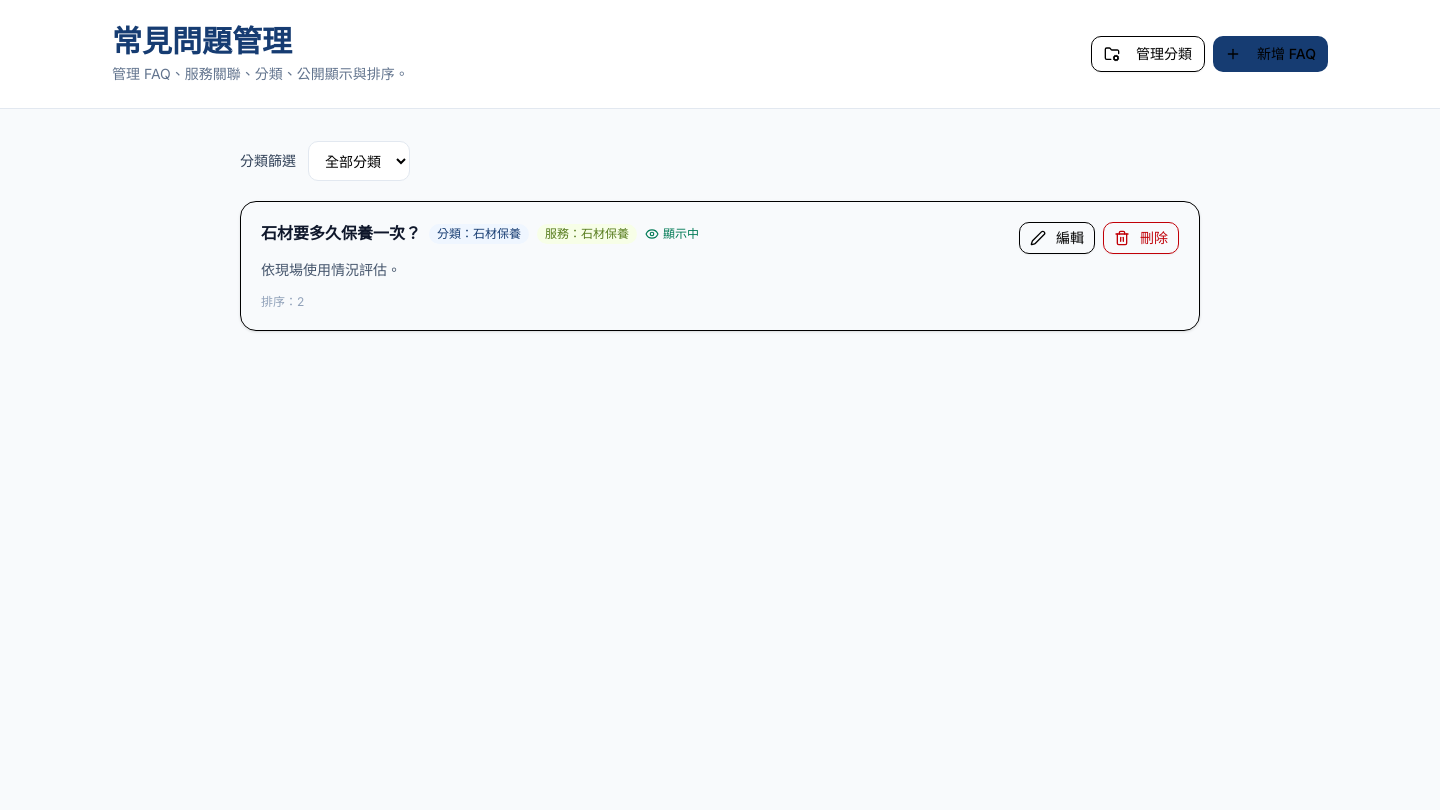
it: CMSFAQs 服務關聯管理 › FAQ 更新失敗時保留對話框並顯示錯誤訊息
Click the button "編輯": click(1057, 238) [1019,222,1095,254]
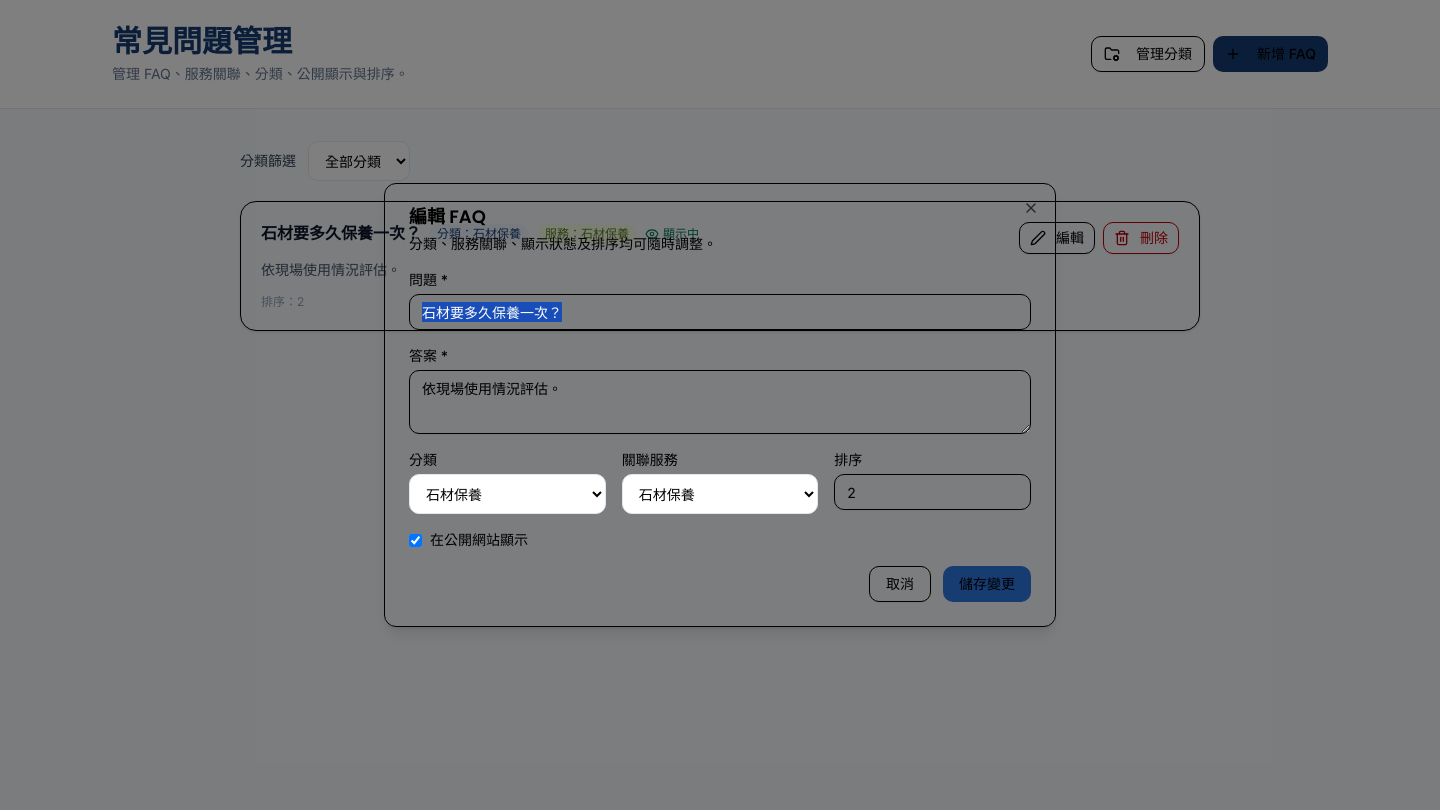
Click the button "儲存變更": click(987, 584) [943,566,1031,602]
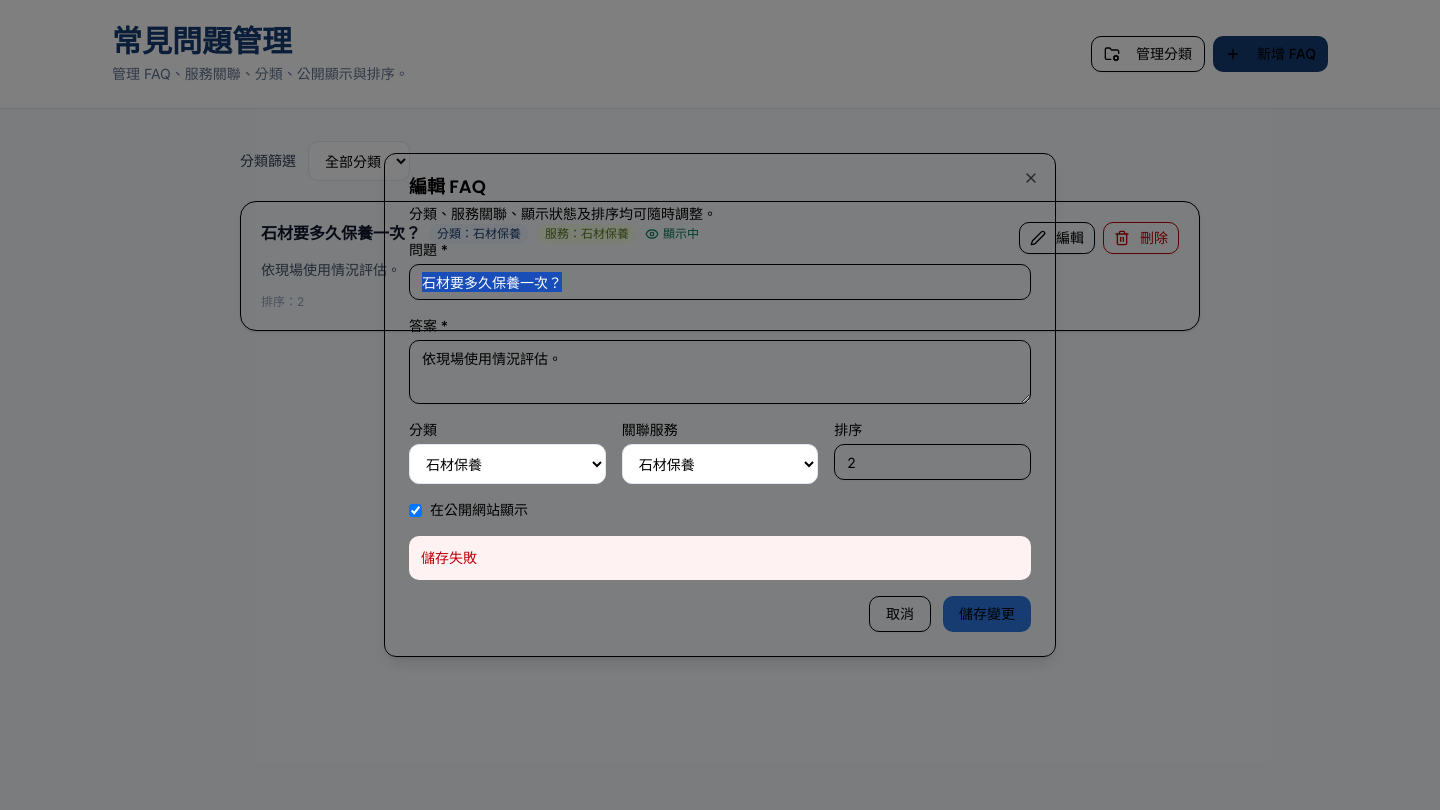
Now the dialog is shown, box [384,153,1056,657]
Now the message reads "儲存失敗", box [421,549,477,566]
